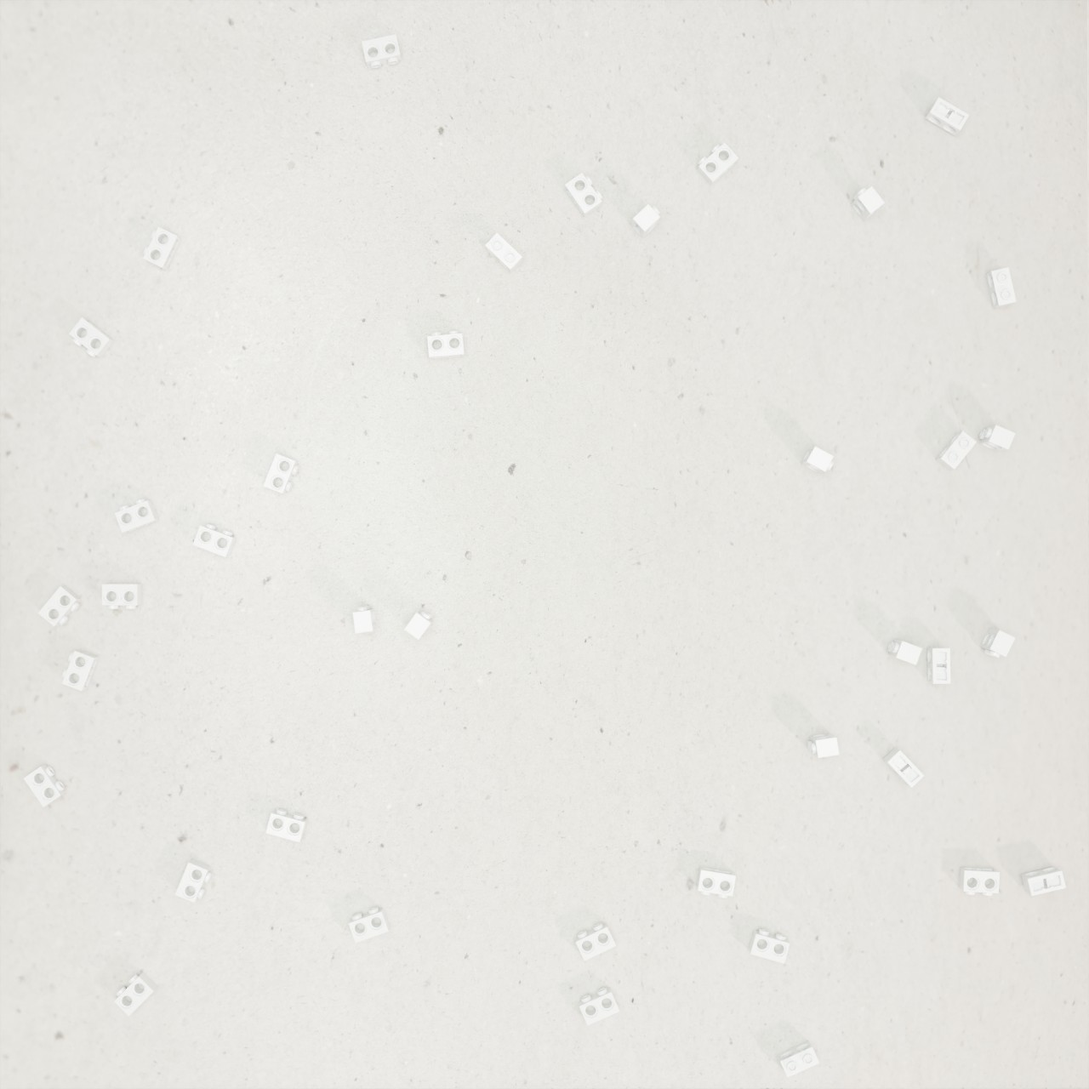lego: (114, 972, 158, 1016), (23, 764, 66, 808), (69, 317, 115, 358), (697, 142, 739, 186), (38, 586, 82, 627), (883, 747, 925, 788), (564, 173, 603, 217), (925, 97, 969, 136), (143, 227, 182, 271), (935, 431, 977, 470), (777, 1040, 820, 1078), (175, 859, 212, 903), (579, 987, 620, 1026), (114, 498, 159, 533), (485, 232, 523, 273), (575, 923, 616, 961), (62, 649, 99, 691), (192, 523, 236, 558), (348, 907, 390, 943), (263, 453, 299, 494), (748, 929, 790, 964), (265, 809, 308, 843), (361, 34, 402, 68), (1021, 866, 1066, 896), (985, 267, 1016, 309), (696, 866, 736, 898), (851, 186, 885, 221), (959, 867, 1000, 896), (427, 331, 465, 360), (980, 628, 1015, 658), (631, 204, 661, 239), (102, 584, 142, 609), (979, 425, 1016, 452), (801, 446, 834, 474), (887, 639, 922, 665), (404, 610, 434, 640), (927, 647, 951, 684), (807, 733, 839, 758), (352, 606, 377, 634)
